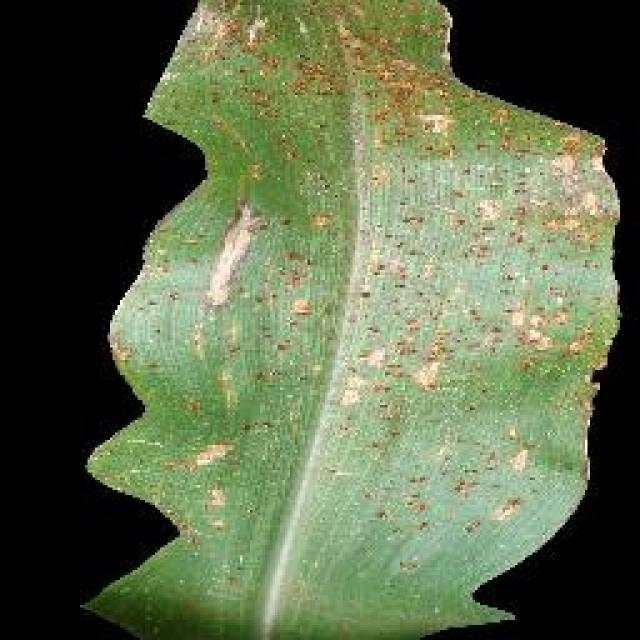Corn Common Rust: (174, 0, 514, 557)
